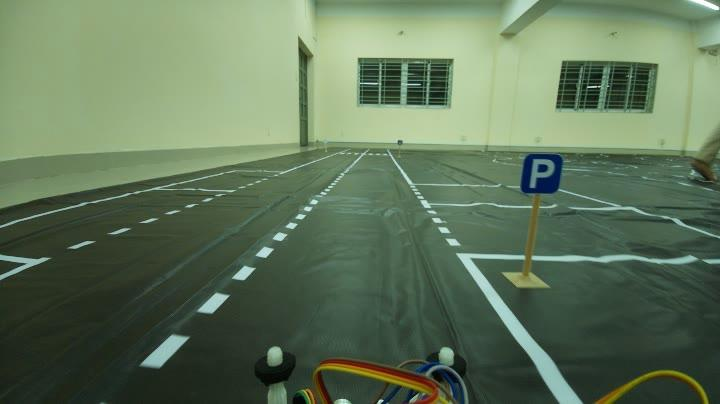parking: (514, 143, 566, 201)
